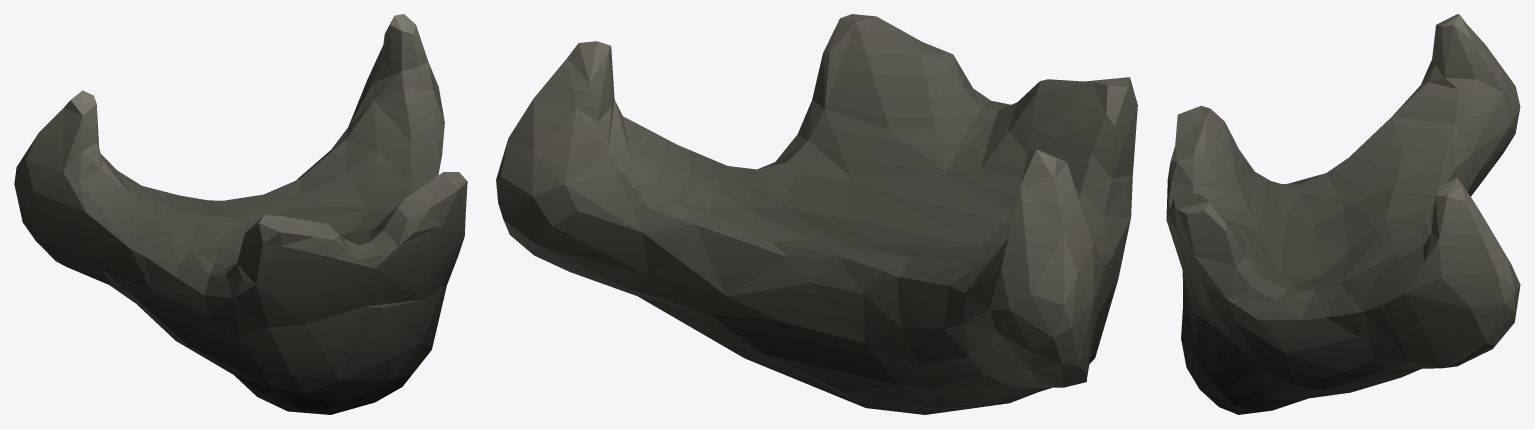
Rendered from SkullJaw.glb.
3 renders of one model, left to right at view 1: azimuth 30°, elevation 25°; view 2: azimuth 150°, elevation 25°; view 3: azimuth 270°, elevation 25°, orthographic. The views are drawn at different scales.
Parts seen in each view (by area): view 1: SkullJaw.col; view 2: SkullJaw.col; view 3: SkullJaw.col.
Part boxes in pixels (box(x1,y1,x2,y2)): SkullJaw.col: box(14, 14, 467, 414); SkullJaw.col: box(496, 14, 1137, 414); SkullJaw.col: box(1166, 14, 1520, 414).
Bounding box in the file's own units: 0.7934 × 0.5201 × 0.5579.
Materials: 1 (1 with a texture image).
